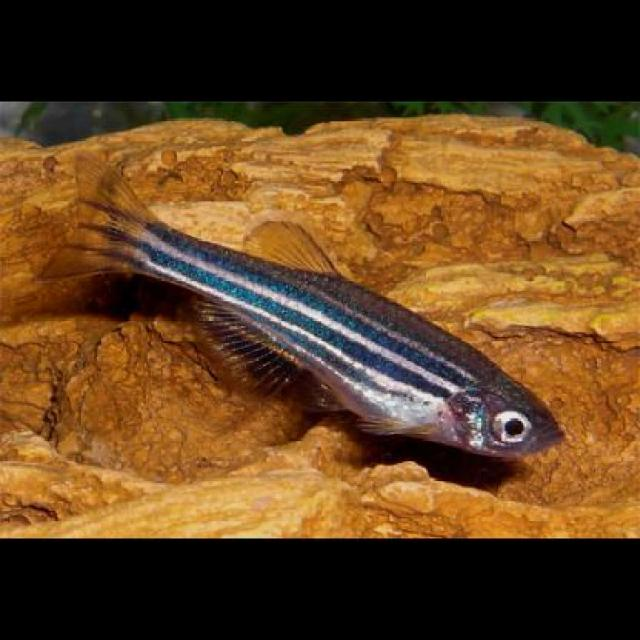ZebraFish: (35, 147, 568, 453)
